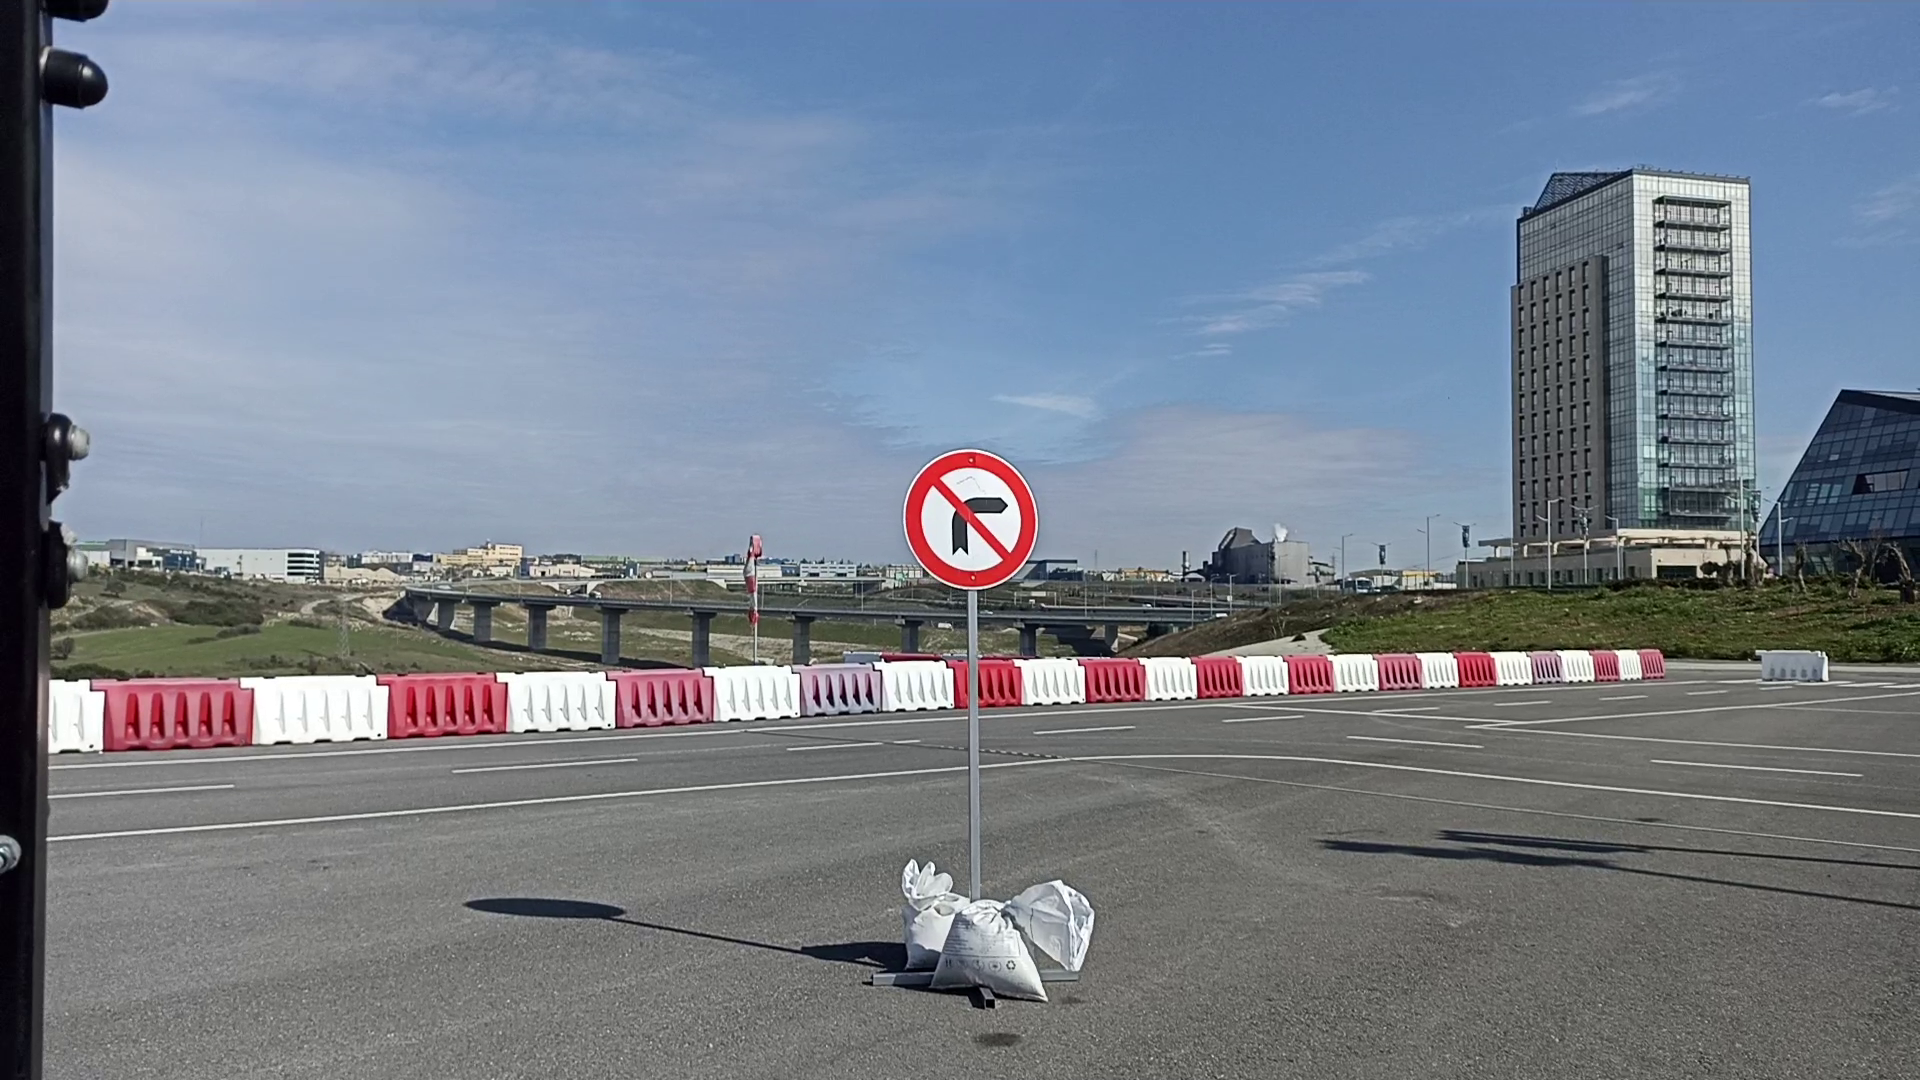noleftturn: (901, 447, 1040, 592)
